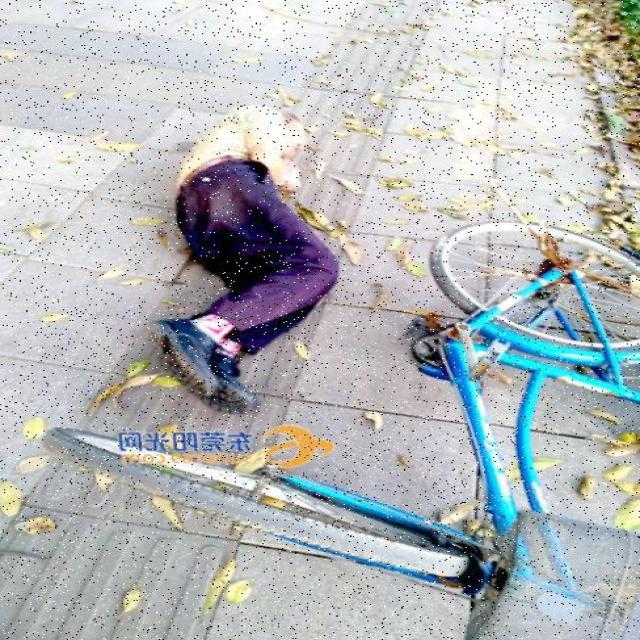fall: (154, 102, 322, 398)
